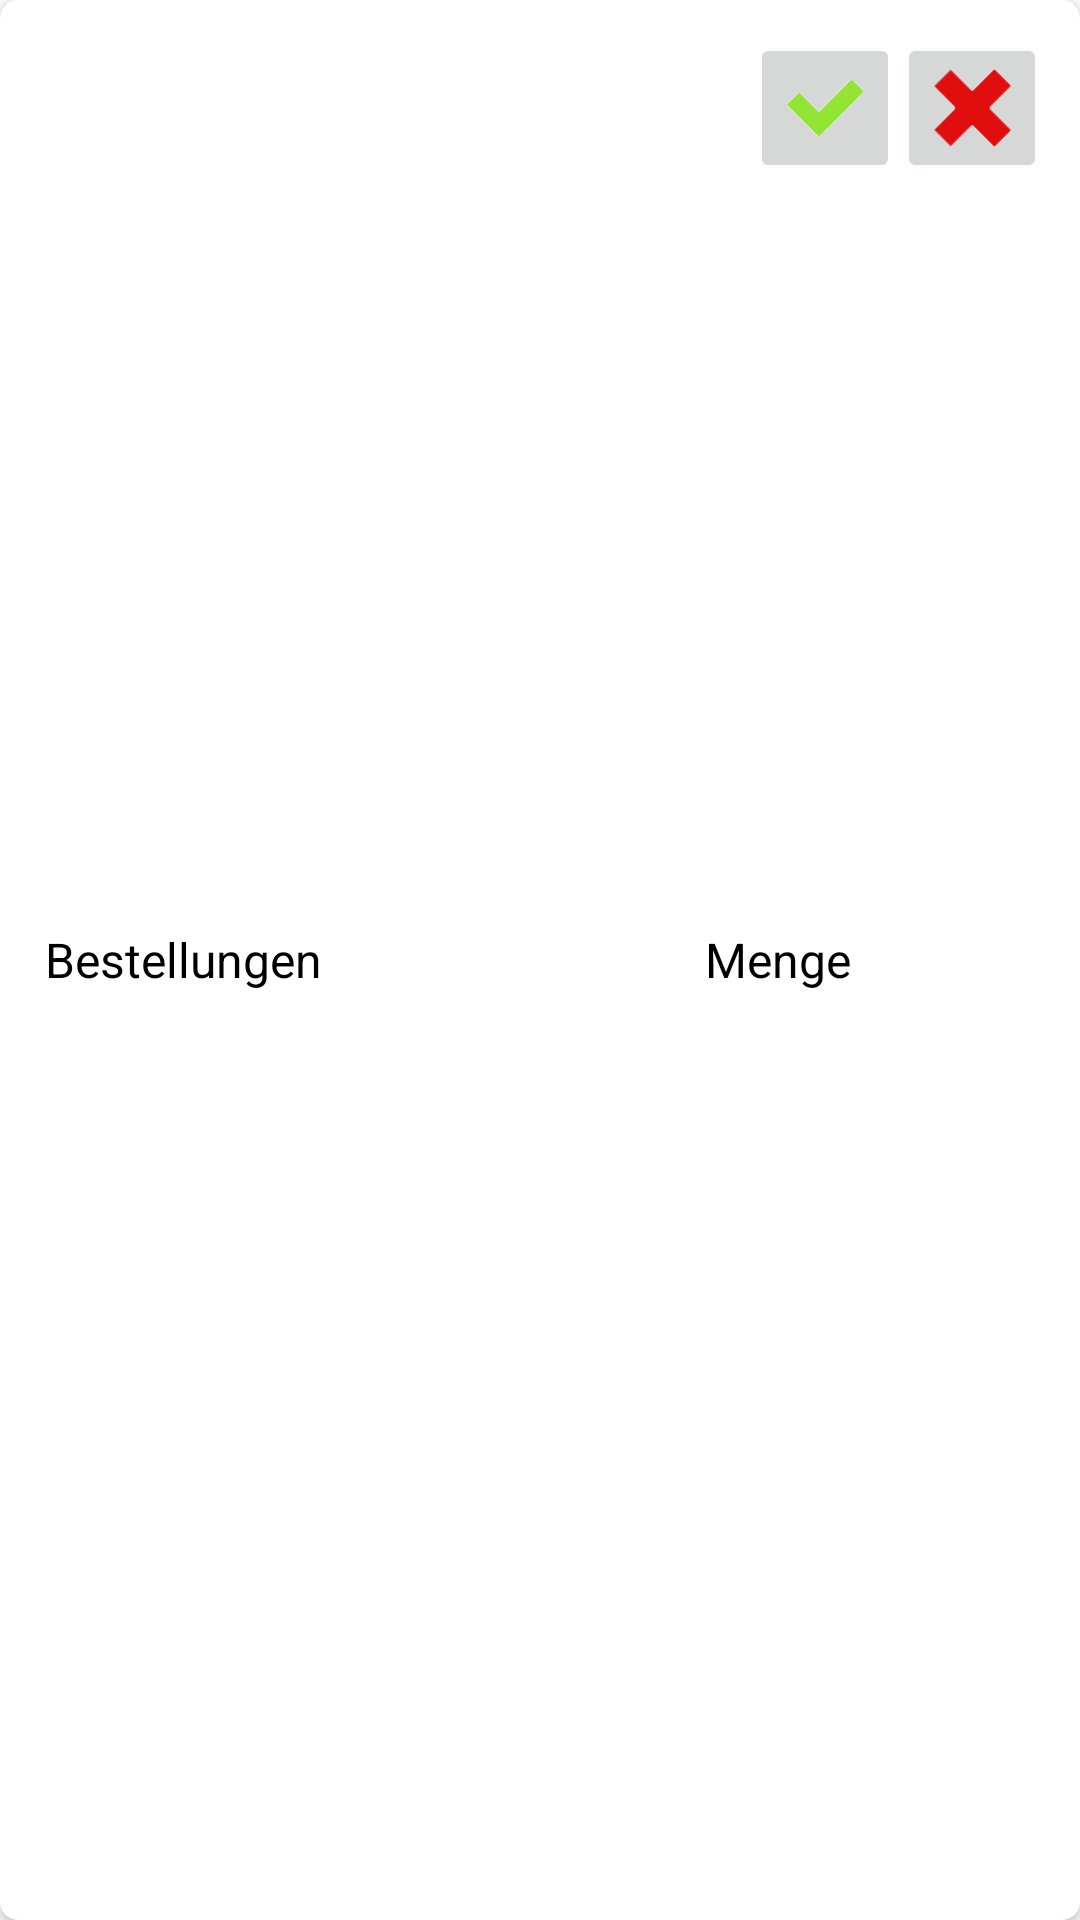

Screen size 1080*1920. Icon name, then its box in pixels as [x1,y1,x2,y2]:
haken gruen: [762,51,888,165]
kreuz rot: [909,51,1035,165]
